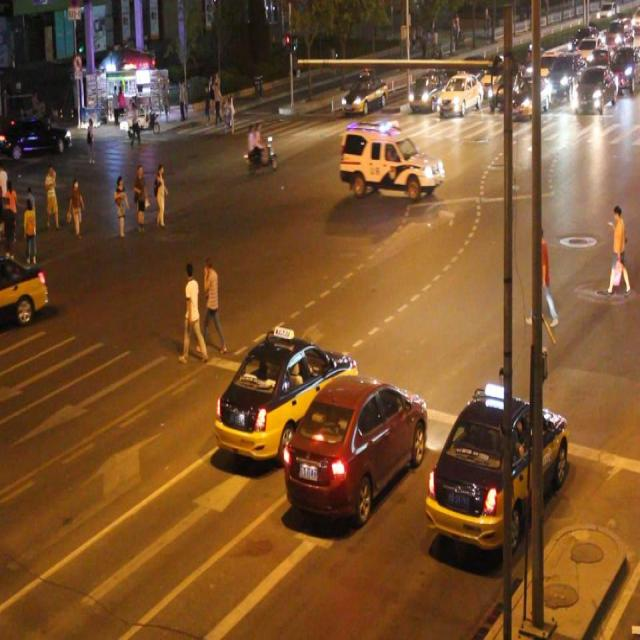car: (423, 390, 567, 549), (283, 371, 426, 521), (216, 334, 356, 458), (338, 121, 442, 197), (1, 253, 47, 322), (434, 74, 480, 114), (342, 73, 384, 114), (408, 70, 442, 108)
